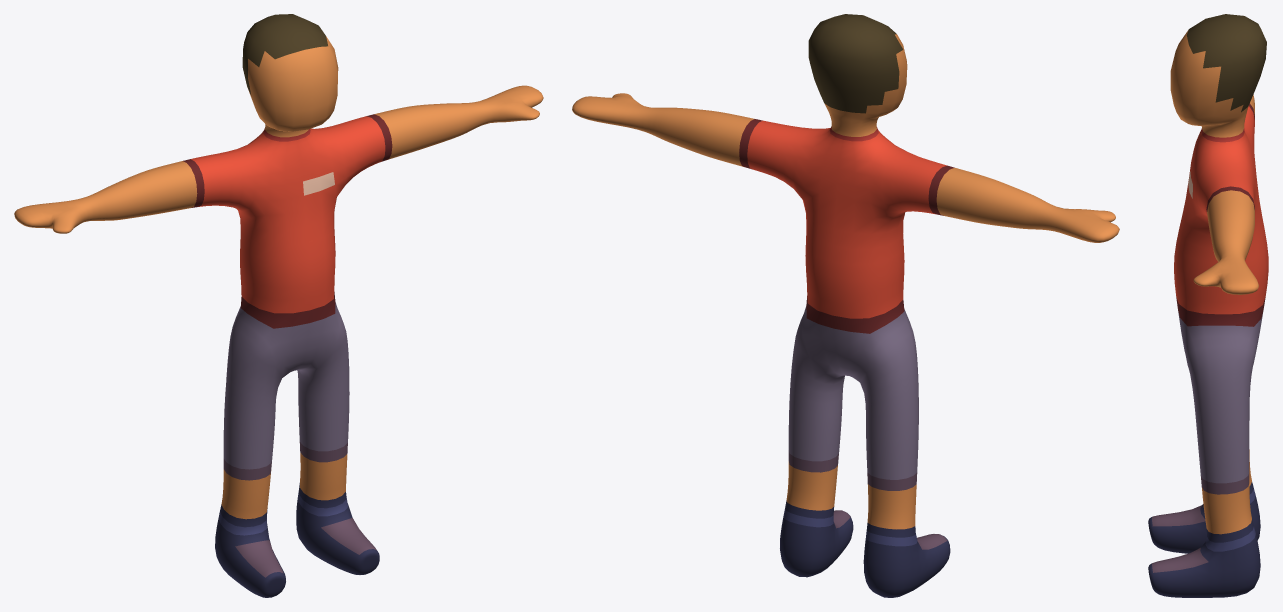
The model's file is Character_base.fbx.
3 views of the same model, side by side, from view 1: azimuth 30°, elevation 25°; view 2: azimuth 150°, elevation 25°; view 3: azimuth 270°, elevation 25° (orthographic). The views are drawn at different scales.
Visible parts, largest first — view 1: Plane; view 2: Plane; view 3: Plane.
Boxes of the visible parts, x1,y1,x2,y2 form: Plane: [14, 14, 543, 597]; Plane: [572, 14, 1119, 597]; Plane: [1148, 14, 1268, 597].
Bounding box in the file's own units: 4.04 × 4.04 × 0.7942.
1 material, 1 textured.
